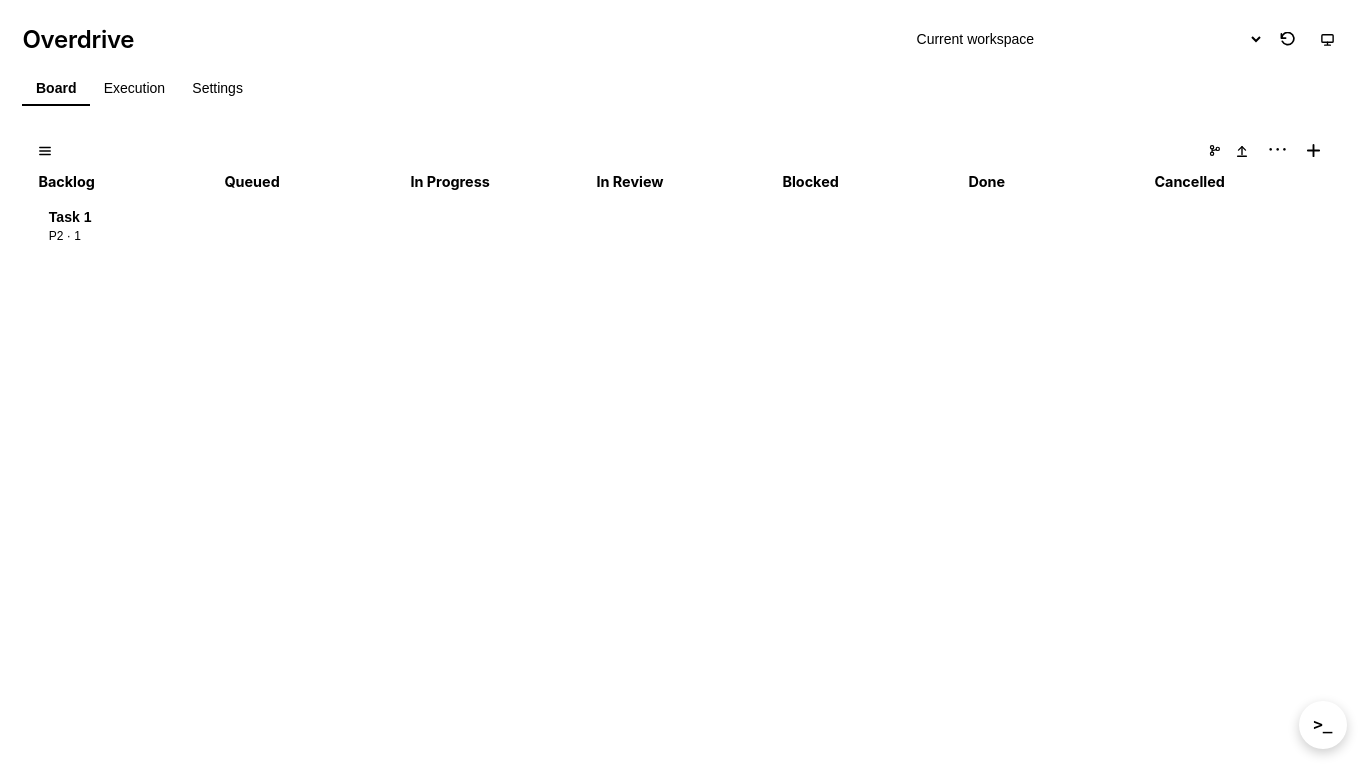
Test: App default route › shows stable fallback when task workdoc is missing
Click the text "Task 1". click: (70, 217)
box: [49,209,92,225]
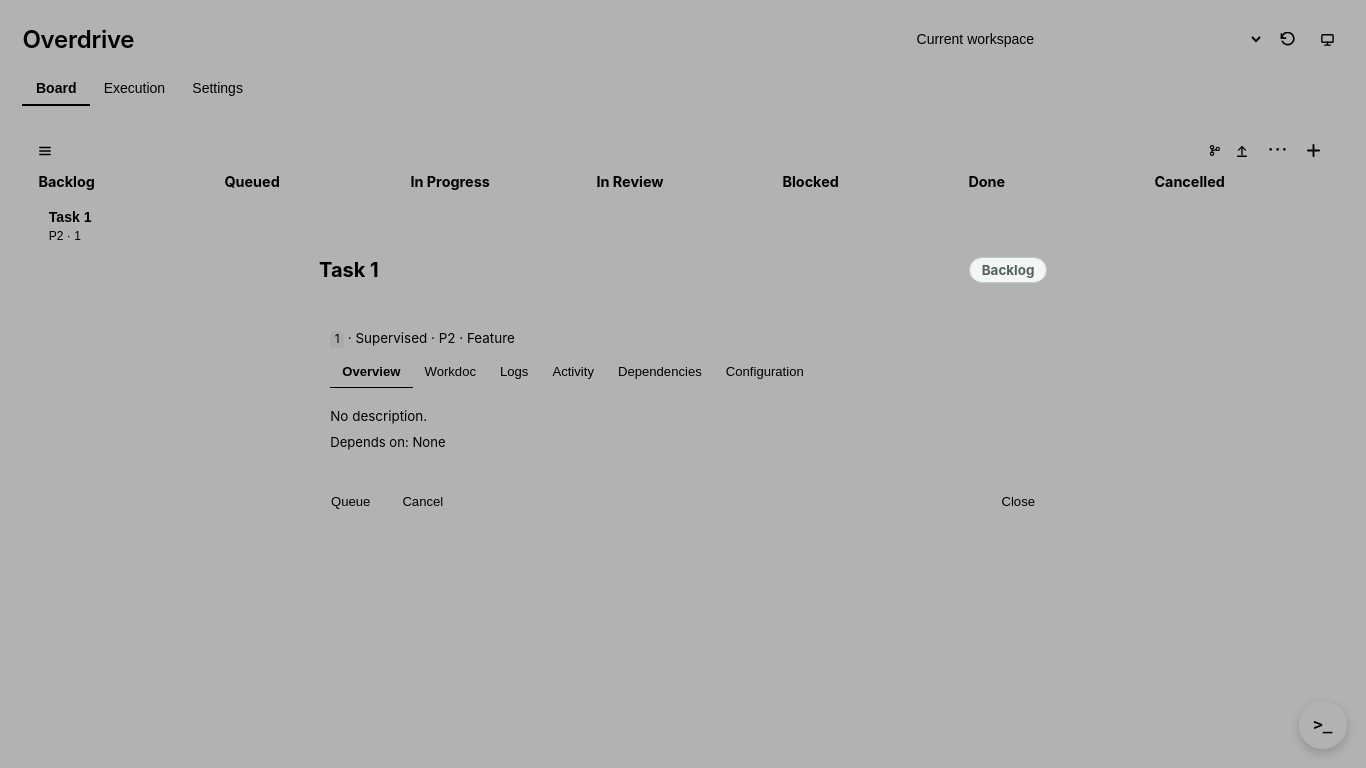
Expected: the button "Workdoc" is shown
Click the button "Workdoc". click: (450, 373)
box: [412,356,488,389]
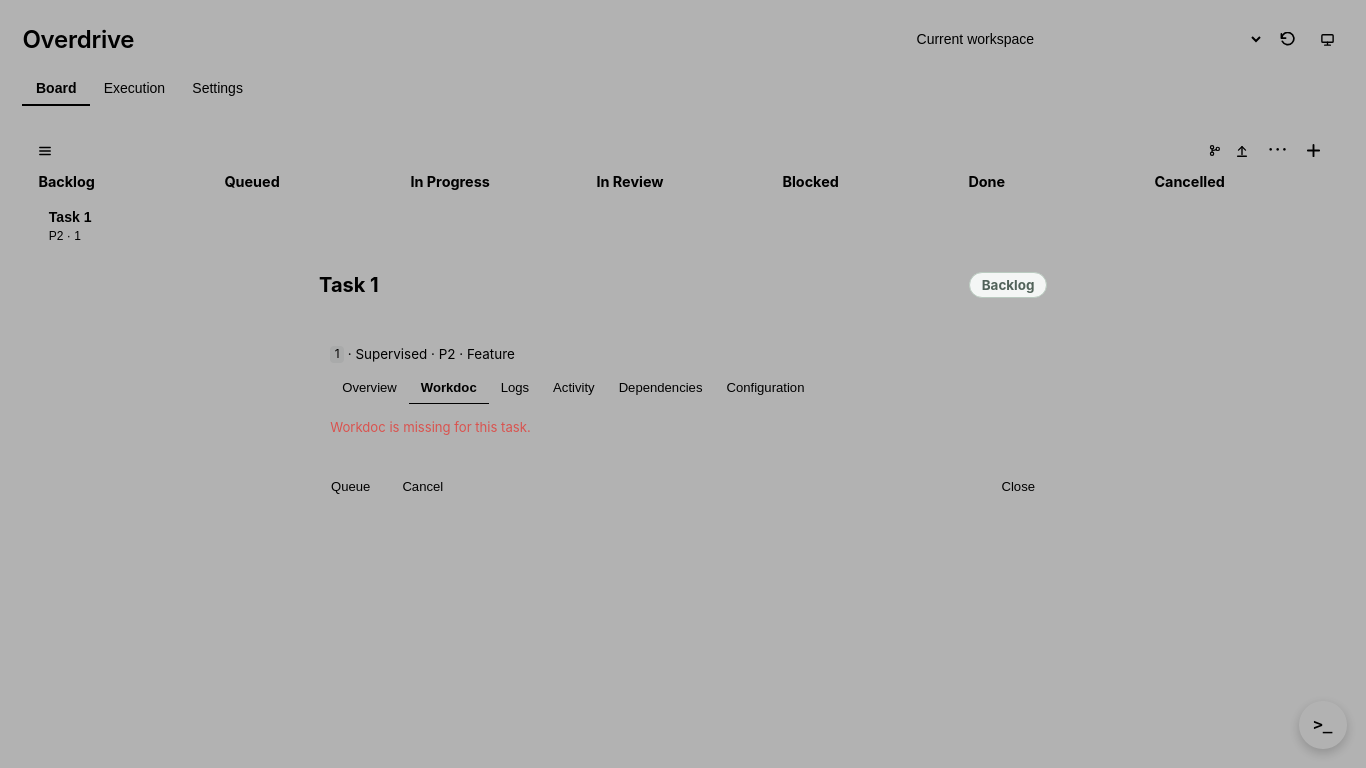
Expected: the text "Workdoc is missing for this task." is shown, [330,419,531,435]
